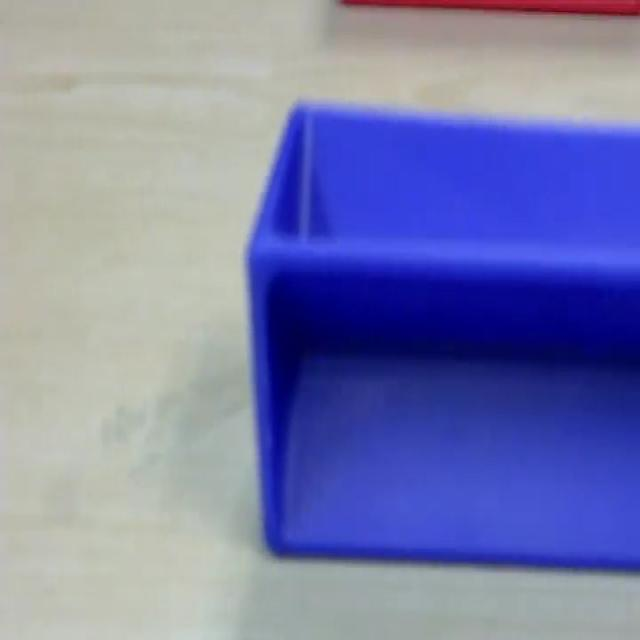blue_block: (244, 96, 638, 569)
